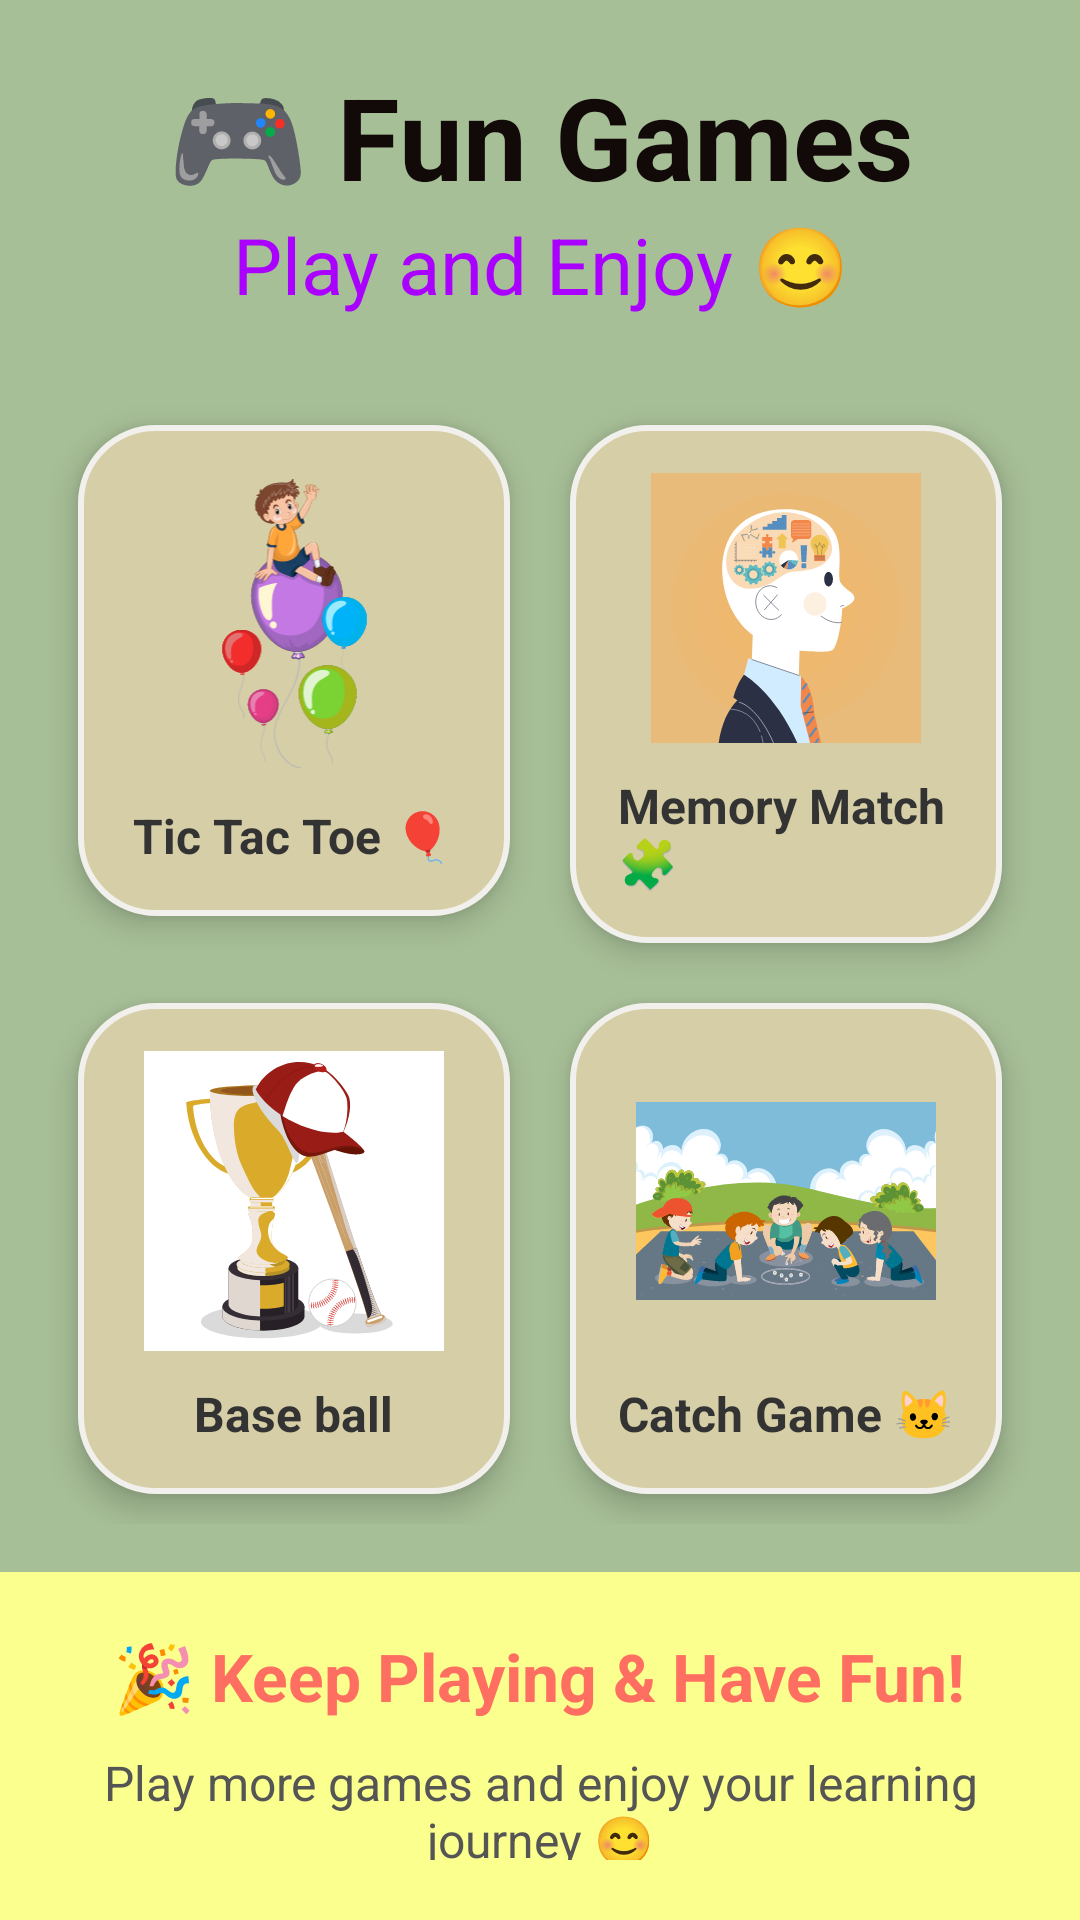

Point at icon controls on the screen. Image size 1080w x 1920h, points as (x=x, y=y).
balloon: (x=294, y=623)
